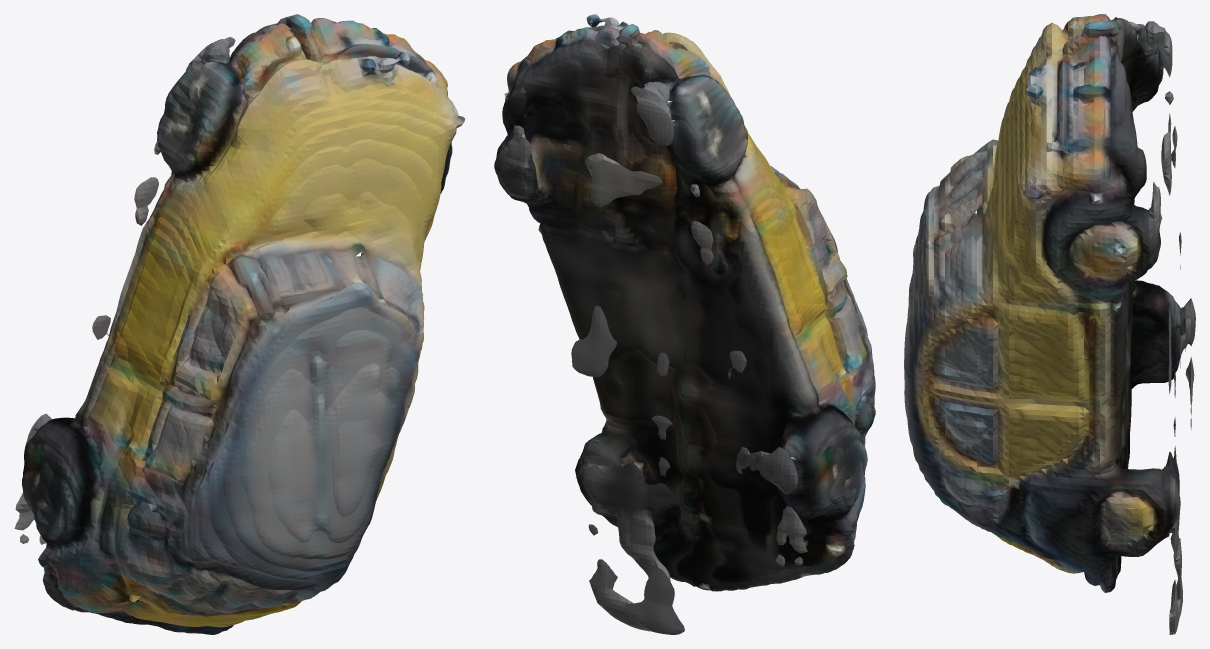
The model's file is 000001_car_vehicle_auto.glb.
3 renders of one model, left to right at view 1: azimuth 30°, elevation 25°; view 2: azimuth 150°, elevation 25°; view 3: azimuth 270°, elevation 25°, orthographic. The views are drawn at different scales.
Parts seen in each view (by area): view 1: world; view 2: world; view 3: world.
Part boxes in pixels (x1,y1,x2,y2): world: (14, 14, 465, 634); world: (494, 14, 875, 634); world: (904, 14, 1195, 634).
Bounding box in the file's own units: 0.586 × 0.884 × 0.3719.
